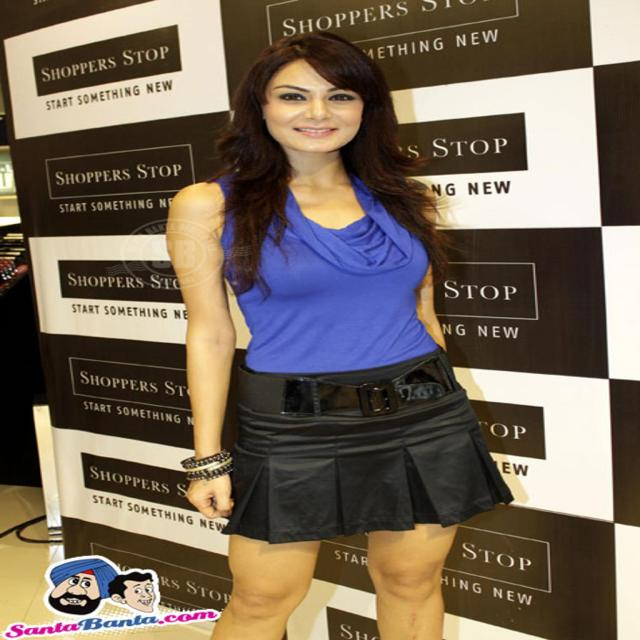Face: (241, 61, 387, 163)
